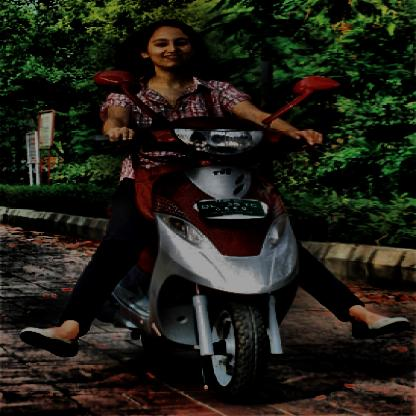not_wear: (145, 26, 197, 70)
